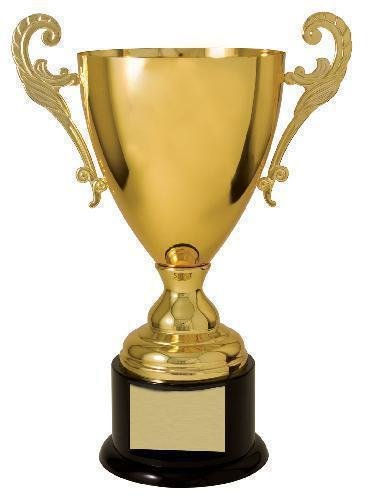trophy: (11, 11, 354, 492)
